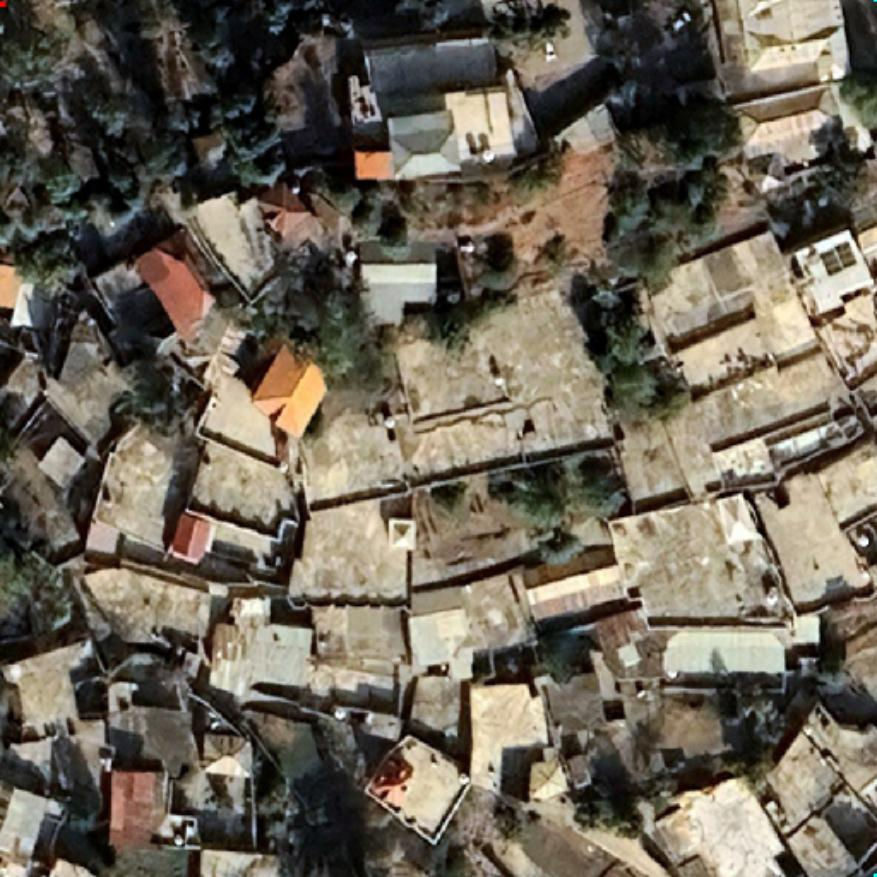Solarpanel: (816, 237, 860, 278)
